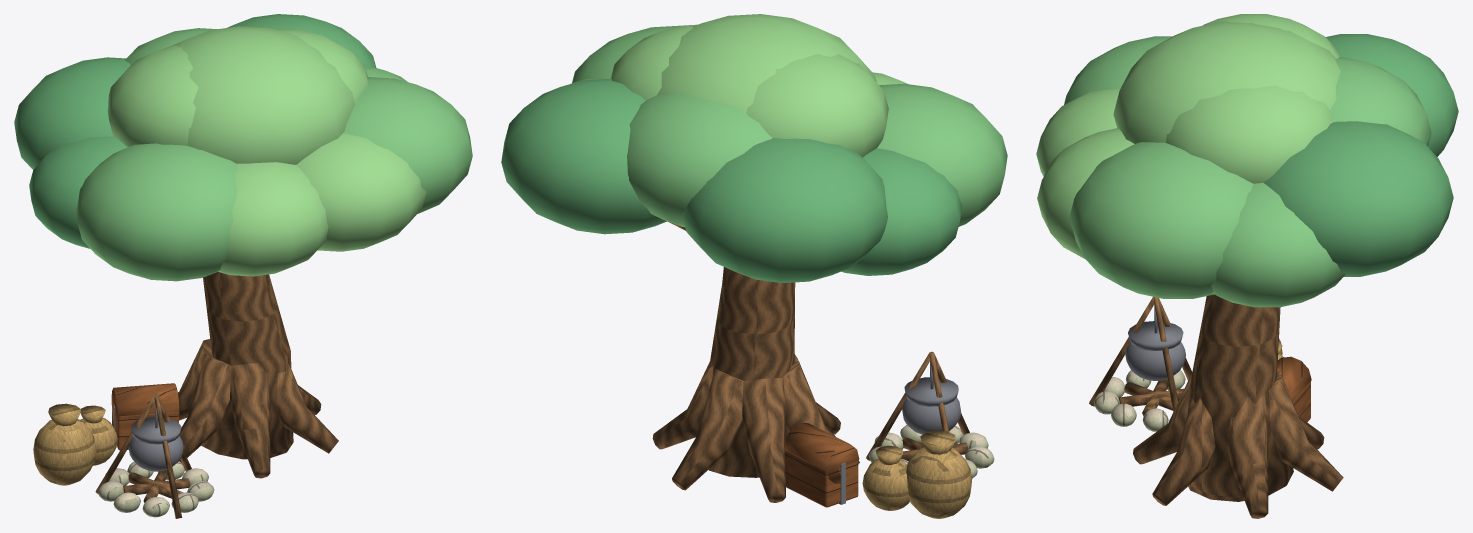
Rendered from map5.glb.
3 views of the same model, side by side, from view 1: azimuth 30°, elevation 25°; view 2: azimuth 150°, elevation 25°; view 3: azimuth 270°, elevation 25° (orthographic). The views are drawn at different scales.
Parts seen in each view (by area): view 1: Batch_CanopySun, Batch_CanopyMid, Batch_AncientBark, Batch_CanopyDark, Batch_BurlapSack, Batch_FireStone, Batch_ChestWood, Batch_CastIron; view 2: Batch_CanopyDark, Batch_CanopySun, Batch_CanopyMid, Batch_AncientBark, Batch_BurlapSack, Batch_ChestWood, Batch_CastIron, Batch_FireStone; view 3: Batch_CanopyMid, Batch_CanopySun, Batch_AncientBark, Batch_CanopyDark, Batch_CastIron, Batch_FireStone, Batch_ChestWood.
Boxes of the visible parts, x1,y1,x2,y2 form: Batch_CanopySun: [107, 26, 426, 276]; Batch_CanopyMid: [76, 28, 472, 281]; Batch_AncientBark: [95, 272, 338, 518]; Batch_CanopyDark: [14, 14, 376, 248]; Batch_BurlapSack: [33, 403, 117, 485]; Batch_FireStone: [98, 461, 214, 517]; Batch_ChestWood: [111, 383, 179, 450]; Batch_CastIron: [113, 402, 183, 471]; Batch_CanopyDark: [501, 78, 962, 282]; Batch_CanopySun: [610, 14, 908, 157]; Batch_CanopyMid: [571, 25, 1007, 227]; Batch_AncientBark: [652, 221, 969, 502]; Batch_BurlapSack: [862, 430, 971, 518]; Batch_ChestWood: [783, 423, 859, 507]; Batch_CastIron: [839, 361, 961, 504]; Batch_FireStone: [869, 425, 994, 478]; Batch_CanopyMid: [1064, 36, 1431, 307]; Batch_CanopySun: [1036, 14, 1340, 259]; Batch_AncientBark: [1089, 294, 1343, 518]; Batch_CanopyDark: [1264, 34, 1458, 276]; Batch_CastIron: [1125, 305, 1185, 380]; Batch_FireStone: [1094, 370, 1185, 431]; Batch_ChestWood: [1277, 356, 1311, 422].
Size of the model in its own units: 4.84 by 4.74 by 4.09.
Materials: 9 (4 with a texture image).
